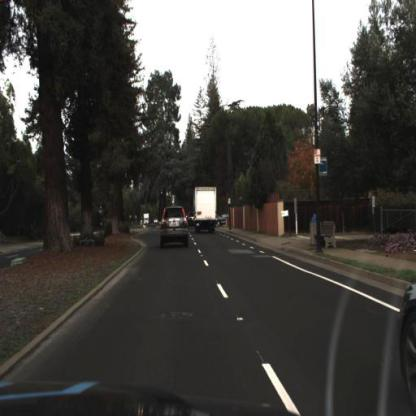car: (158, 199, 194, 257), (190, 183, 223, 237), (154, 218, 159, 226)
truck: (194, 184, 220, 233), (144, 213, 150, 229)
